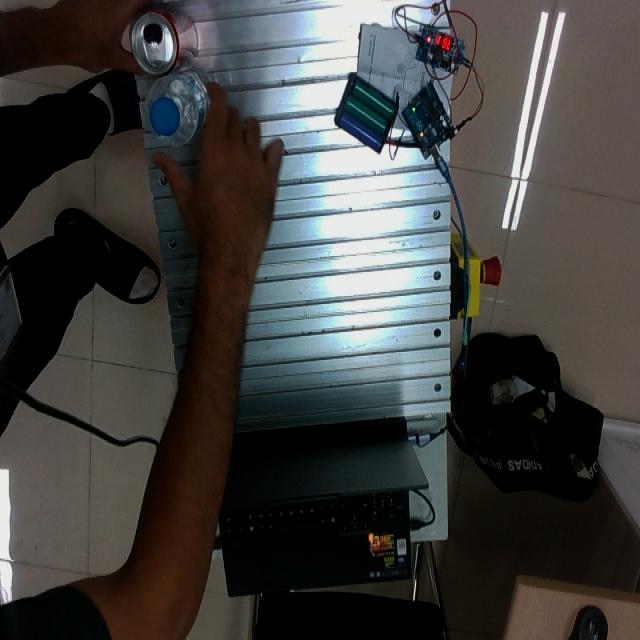coca: (129, 11, 183, 78)
lavie: (143, 68, 212, 149)
